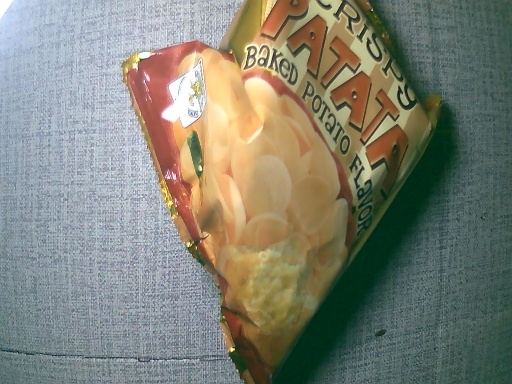plastic: (117, 4, 446, 384)
